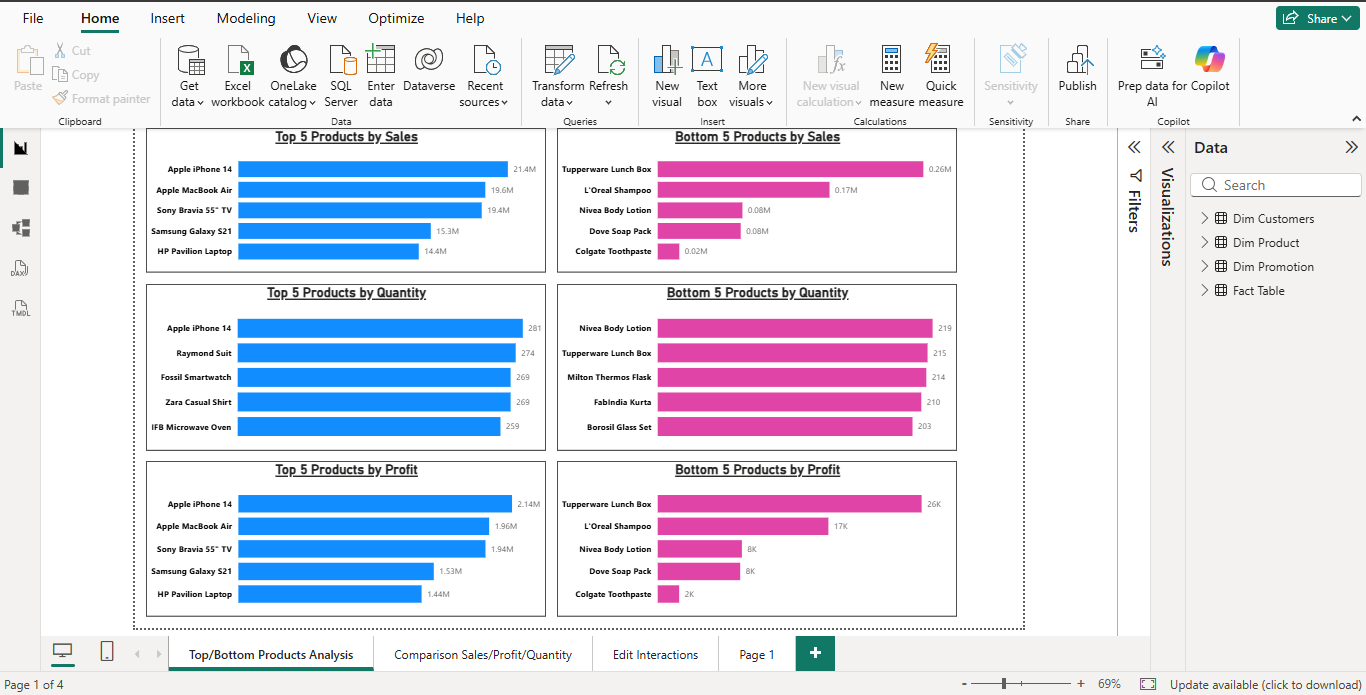

The page's visual inventory and layout, read from the dashboard file:
{"tool":"powerbi","page":{"name":"Top/Bottom Products Analysis","canvas":[1280,720],"ordinal":0},"visuals":[{"type":"barChart","title":"Top 5 Products by Sales","fields":{"Category":["Dim Product.Product Name"],"Y":["Sum(Fact Table.Net Sales)"]},"box":[16,0,576,208],"z":0},{"type":"barChart","title":"Bottom 5 Products by Sales","fields":{"Category":["Dim Product.Product Name"],"Y":["Sum(Fact Table.Net Sales)"]},"box":[608,0,576,208],"z":1000},{"type":"barChart","title":"Top 5 Products by Quantity","fields":{"Category":["Dim Product.Product Name"],"Y":["Sum(Fact Table.Units Sold)"]},"box":[16,224,576,240],"z":2000},{"type":"barChart","title":"Top 5 Products by Profit","fields":{"Category":["Dim Product.Product Name"],"Y":["Sum(Fact Table.Profit)"]},"box":[16,480,576,224],"z":3000},{"type":"barChart","title":"Bottom 5 Products by Quantity","fields":{"Category":["Dim Product.Product Name"],"Y":["Sum(Fact Table.Units Sold)"]},"box":[608,224,576,240],"z":4000},{"type":"barChart","title":"Bottom 5 Products by Profit","fields":{"Category":["Dim Product.Product Name"],"Y":["Sum(Fact Table.Profit)"]},"box":[608,480,576,224],"z":5000}]}

Visuals, with their boxes on the page's 1280x720 design canvas (x1, y1, x2, y2). These are canvas units, not pixel positions in the 1366x695 screenshot, which may show the page scaled, cropped or inside an application window:
"Top 5 Products by Sales" barChart: <box>16,0,592,208</box>
"Bottom 5 Products by Sales" barChart: <box>608,0,1184,208</box>
"Top 5 Products by Quantity" barChart: <box>16,224,592,464</box>
"Top 5 Products by Profit" barChart: <box>16,480,592,704</box>
"Bottom 5 Products by Quantity" barChart: <box>608,224,1184,464</box>
"Bottom 5 Products by Profit" barChart: <box>608,480,1184,704</box>
